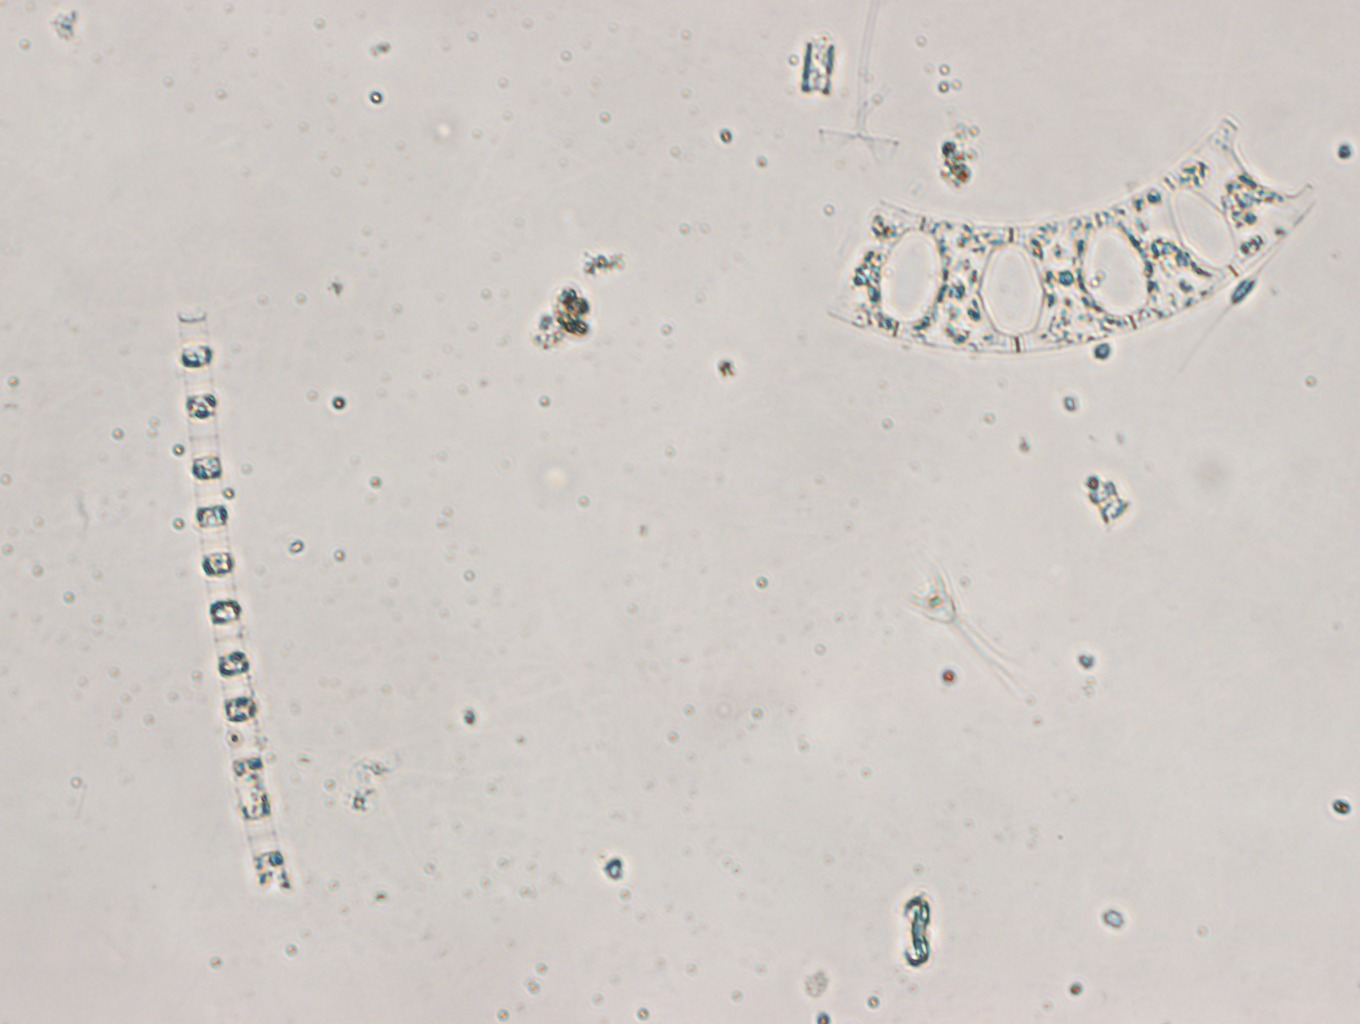eucampia: (827, 117, 1320, 352)
skeletonema: (178, 309, 292, 890)
